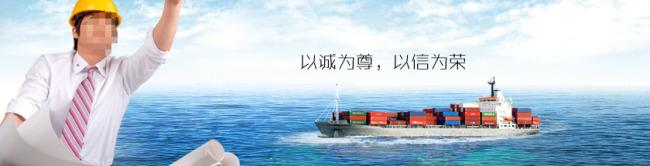helmet: (69, 1, 122, 30)
